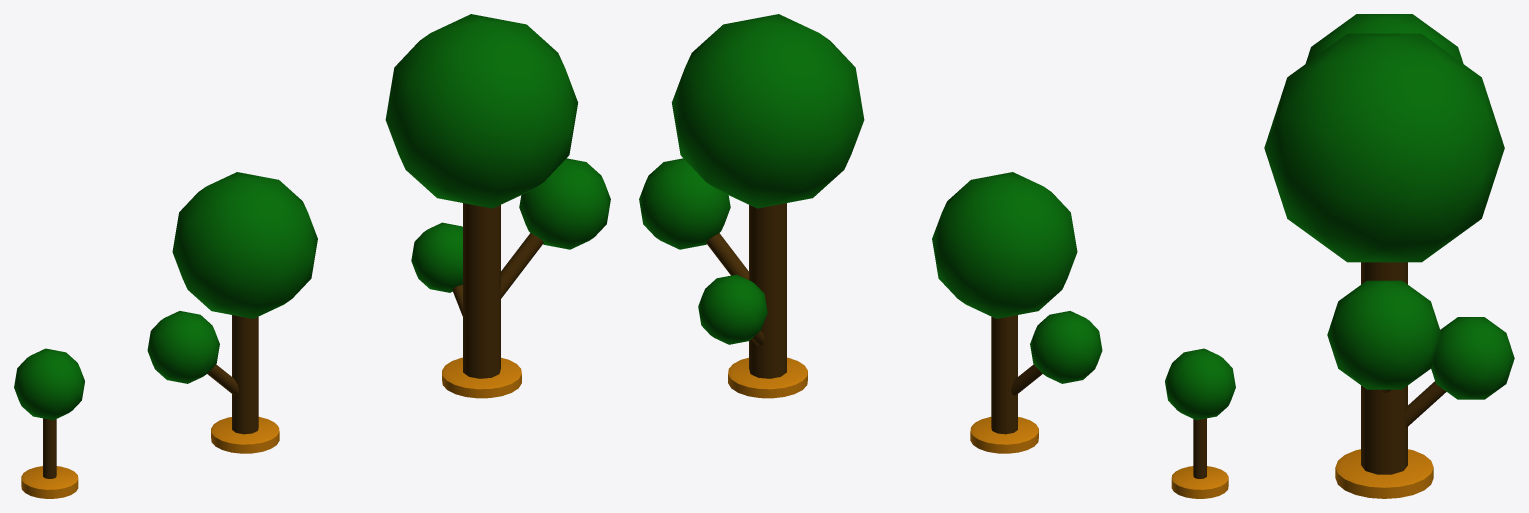
Rendered from Tree_Simple_Ek.fbx.
The picture shows the model from 3 angles, left to right: view 1: azimuth 30°, elevation 25°; view 2: azimuth 150°, elevation 25°; view 3: azimuth 270°, elevation 25°; orthographic projection. The views are drawn at different scales.
Parts seen in each view (by area): view 1: Tree_Large_Ek, Tree_Medium_Ek, Tree_Small_Ek; view 2: Tree_Large_Ek, Tree_Medium_Ek, Tree_Small_Ek; view 3: Tree_Large_Ek, Tree_Medium_Ek.
Part boxes in pixels (x1,y1,x2,y2): Tree_Large_Ek: (385, 14, 610, 398); Tree_Medium_Ek: (147, 172, 317, 453); Tree_Small_Ek: (14, 348, 84, 498); Tree_Large_Ek: (639, 14, 864, 398); Tree_Medium_Ek: (932, 172, 1102, 453); Tree_Small_Ek: (1165, 348, 1235, 498); Tree_Large_Ek: (1264, 33, 1514, 498); Tree_Medium_Ek: (1305, 14, 1463, 63).
Size of the model in its own units: 170 by 100 by 51.71.
